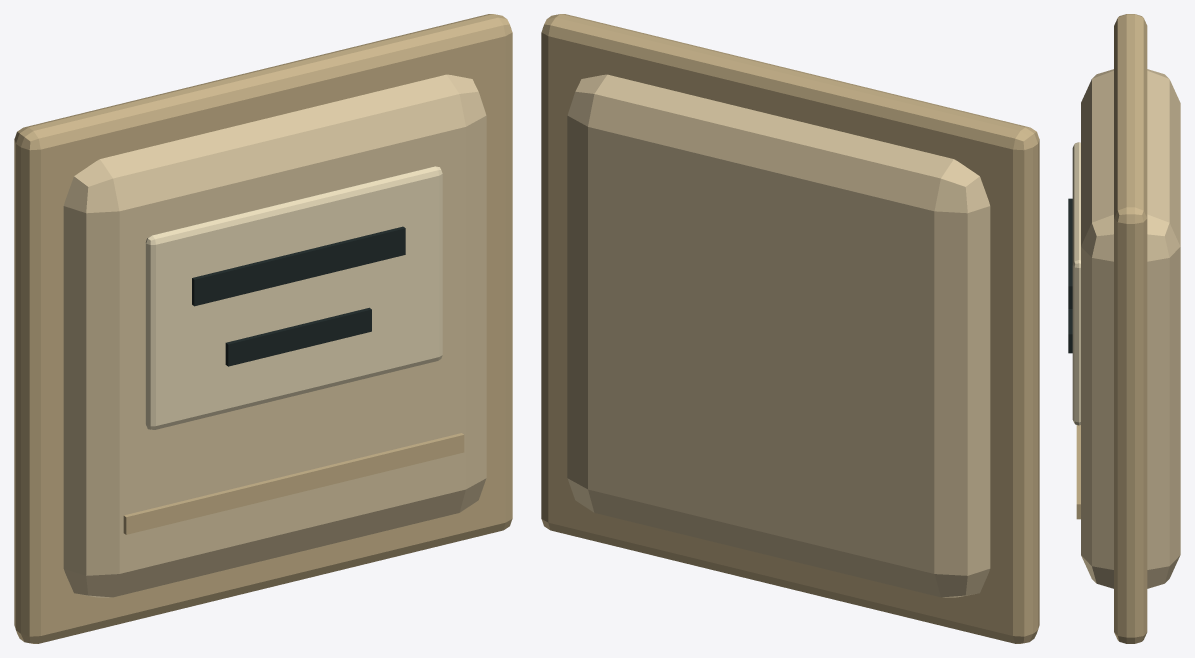
The model's file is ration_pack_cream.glb.
3 renders of one model, left to right at view 1: azimuth 30°, elevation 25°; view 2: azimuth 150°, elevation 25°; view 3: azimuth 270°, elevation 25°, orthographic. The views are drawn at different scales.
Parts seen in each view (by area): view 1: ration_pack_cream; view 2: ration_pack_cream; view 3: ration_pack_cream.
Part boxes in pixels (bbox=[...]): ration_pack_cream: bbox=[14, 14, 512, 643]; ration_pack_cream: bbox=[541, 14, 1039, 643]; ration_pack_cream: bbox=[1068, 14, 1180, 643].
Size of the model in its own units: 0.116 by 0.116 by 0.027.
